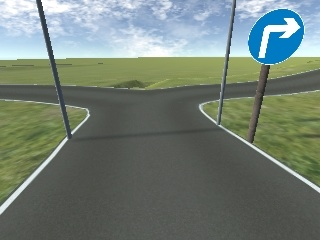turn_right_sign: (242, 6, 306, 66)
